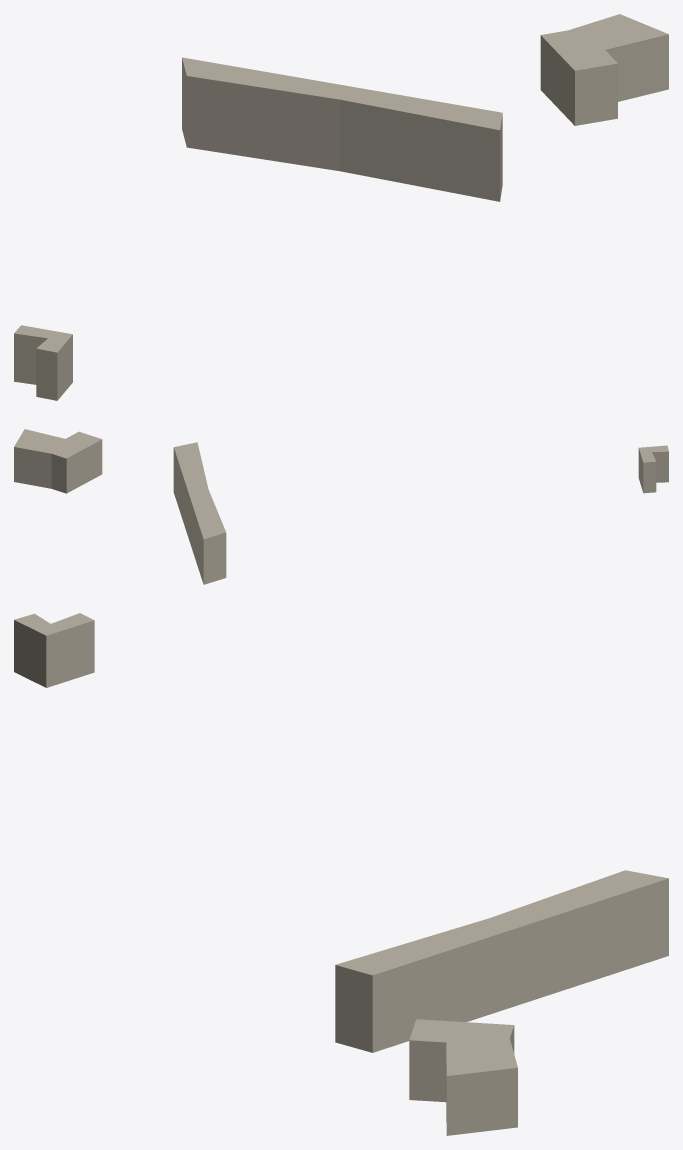
The model's file is bormla_63_28_far.glb.
3 views of the same model, one above another, from view 1: azimuth 30°, elevation 25°; view 2: azimuth 150°, elevation 25°; view 3: azimuth 270°, elevation 25° (orthographic). The views are drawn at different scales.
Visible parts, largest first — view 1: geometry_0; view 2: geometry_0; view 3: geometry_0.
Part boxes in pixels (x1,y1,x2,y2): geometry_0: (14, 14, 668, 400); geometry_0: (14, 429, 668, 584); geometry_0: (14, 613, 668, 1135).
Bounding box in the file's own units: 191 × 22.6 × 121.
